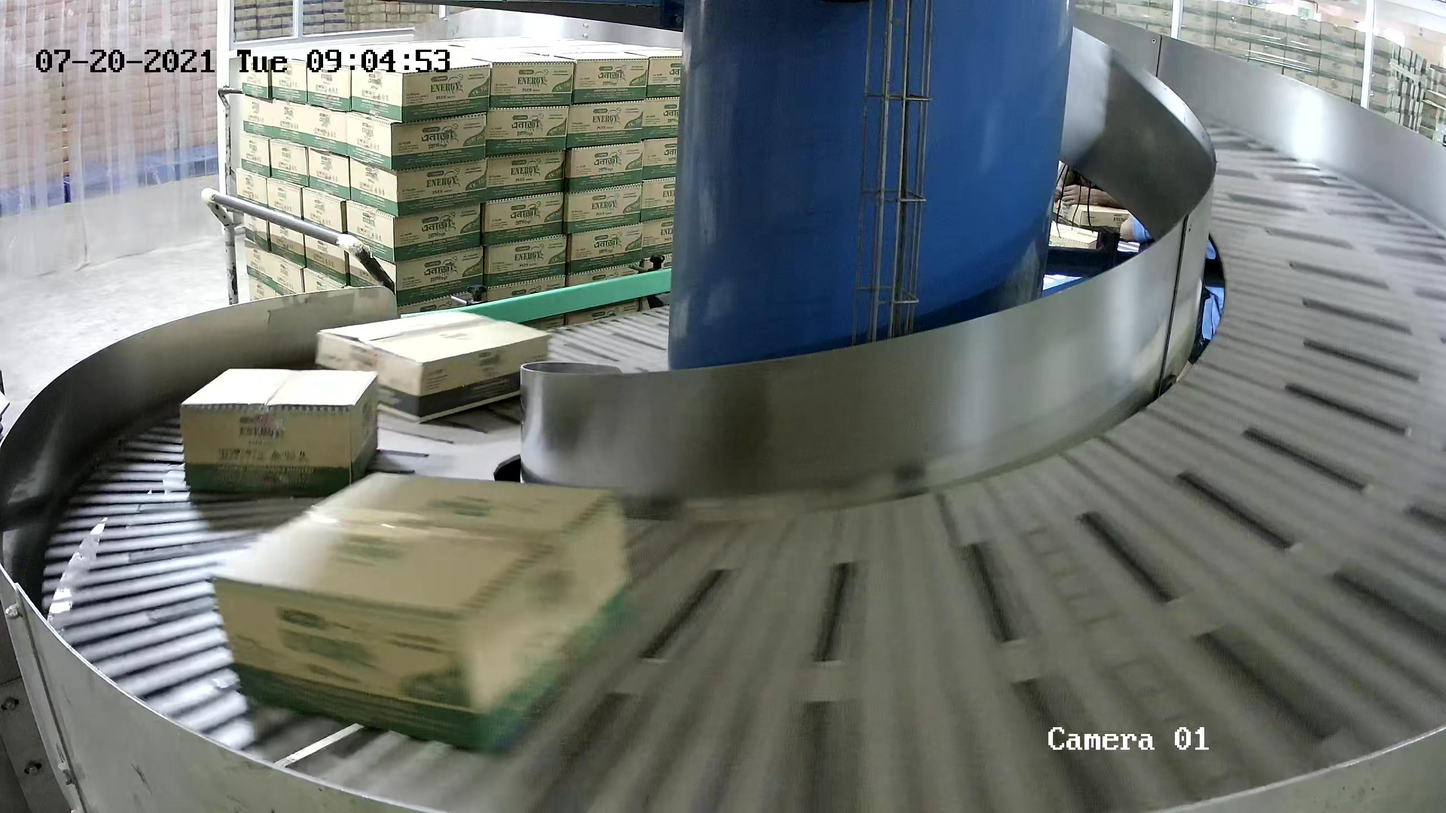Box: (206, 468, 637, 757), (313, 308, 551, 425), (178, 364, 380, 492)
